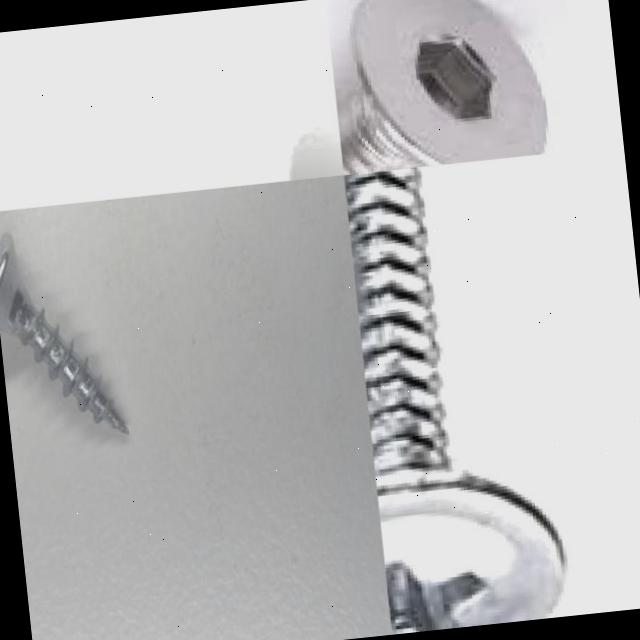Screw: (344, 166, 565, 634), (337, 0, 551, 175), (0, 235, 128, 434)
